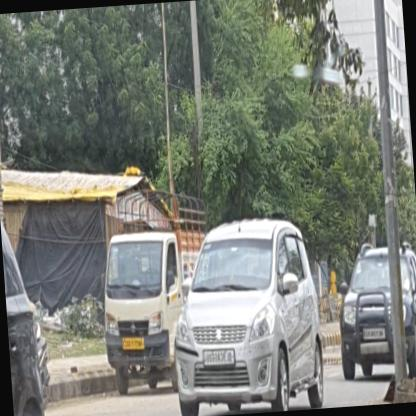car: (166, 213, 327, 415), (333, 238, 415, 386), (0, 197, 47, 415)
truck: (96, 185, 218, 397)
